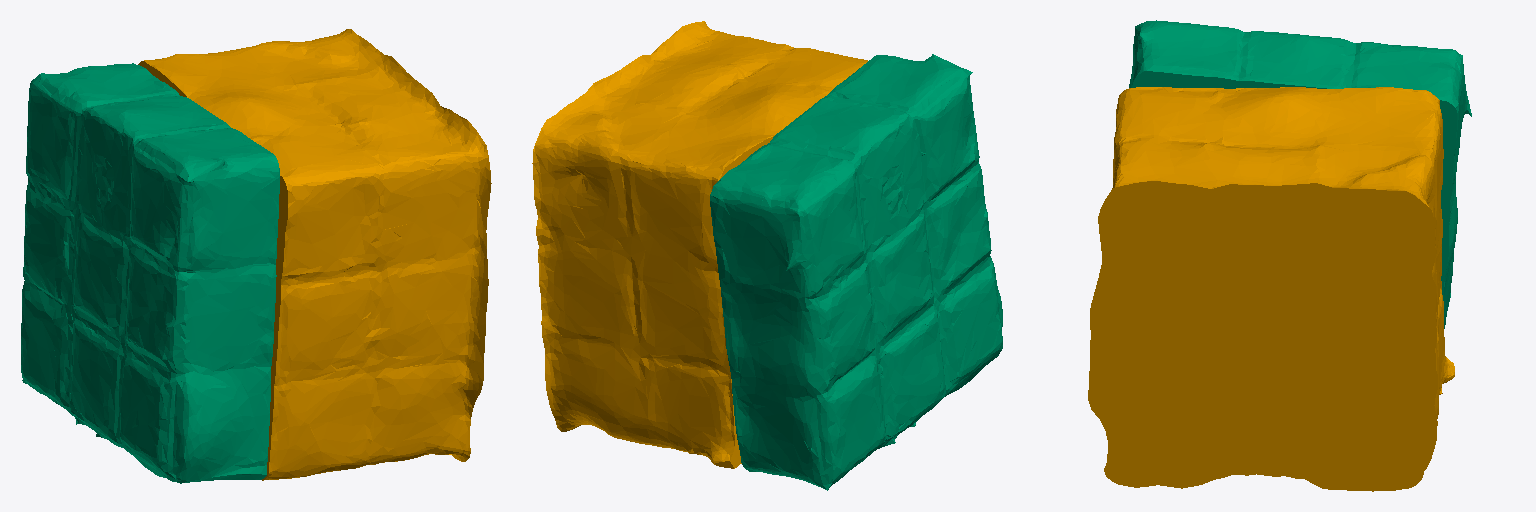
robot.urdf — rubikscube:
<?xml version="1.0"?>
<robot name="rubikscube">
  <link name ="rb0">
    <visual>
      <origin xyz='0.007022 0.034791 -0.070582' rpy='-0.061974 -0.341371 -1.612810'/>
      <geometry>
        <mesh filename="meshes/rc_bottom.obj"  scale="1 1 1" />
      </geometry>
    </visual>

    <collision>
      <origin xyz='0.007022 0.034791 -0.070582' rpy='-0.061974 -0.341371 -1.612810'/>
      <geometry>
        <mesh filename="meshes/rc_bottom.obj"  scale="1 1 1" />
      </geometry>
    </collision>

  </link>
  <joint name="j_0_1" type="revolute">
    <parent link="rb0"/>
    <child link="rb1"/>
    <origin xyz="-0.0655963542563 0.0292959514851 -0.0573983987997" rpy="0 0 0 "/>
    <axis xyz="-0.999109474145 0.0240329176694 0.0346796416074"/>
    <limit effort="30" velocity="1.0" lower="-3.1416" upper="3.1416"/>
  </joint>
  <joint name="j_0_fixed" type="fixed">
    <parent link="rb1"/>
    <child link="rb1_marker"/>
      <origin xyz="0.000470677971037 -0.0409860935988 0.0513168087626" rpy="0.663745912054 1.46660650938 0.63596860131"/>
    <limit effort="30" velocity="1.0" lower="-3.1416" upper="3.1416"/>
  </joint>
  <link name ="rb1">
  </link>
  <link name ="rb1_marker">
    <visual>
      <origin xyz='0.058688 0.036090 0.047669' rpy='1.626453 -0.143578 2.647488'/>
      <geometry>
        <mesh filename="meshes/rc_top.obj"  scale="1 1 1" />
      </geometry>
    </visual>

    <collision>
      <origin xyz='0.058688 0.036090 0.047669' rpy='1.626453 -0.143578 2.647488'/>
      <geometry>
        <mesh filename="meshes/rc_top.obj"  scale="1 1 1" />
      </geometry>
    </collision>
  </link>
</robot>

--- Render facts (derived) ---
Views: 3 orthographic renders of the robot side by side, from view 1: azimuth 30°, elevation 25°; view 2: azimuth 150°, elevation 25°; view 3: azimuth 270°, elevation 25°.
Robot: rubikscube — 3 links, 2 joints (1 revolute, 1 fixed); root link rb0; default pose: every joint at zero.
Visible links, largest first — view 1: rb0, rb1_marker; view 2: rb1_marker, rb0; view 3: rb0, rb1_marker.
Boxes of the visible links, x1,y1,x2,y2 form: rb0: (138, 29, 491, 480); rb1_marker: (21, 63, 279, 483); rb1_marker: (710, 54, 1002, 490); rb0: (532, 21, 867, 468); rb0: (1088, 87, 1454, 491); rb1_marker: (1129, 20, 1471, 328).
Size in the robot's own frame: 0.098 by 0.1009 by 0.0999 metres.
2 mesh visuals loaded from 2 distinct referenced files (2 OBJ).